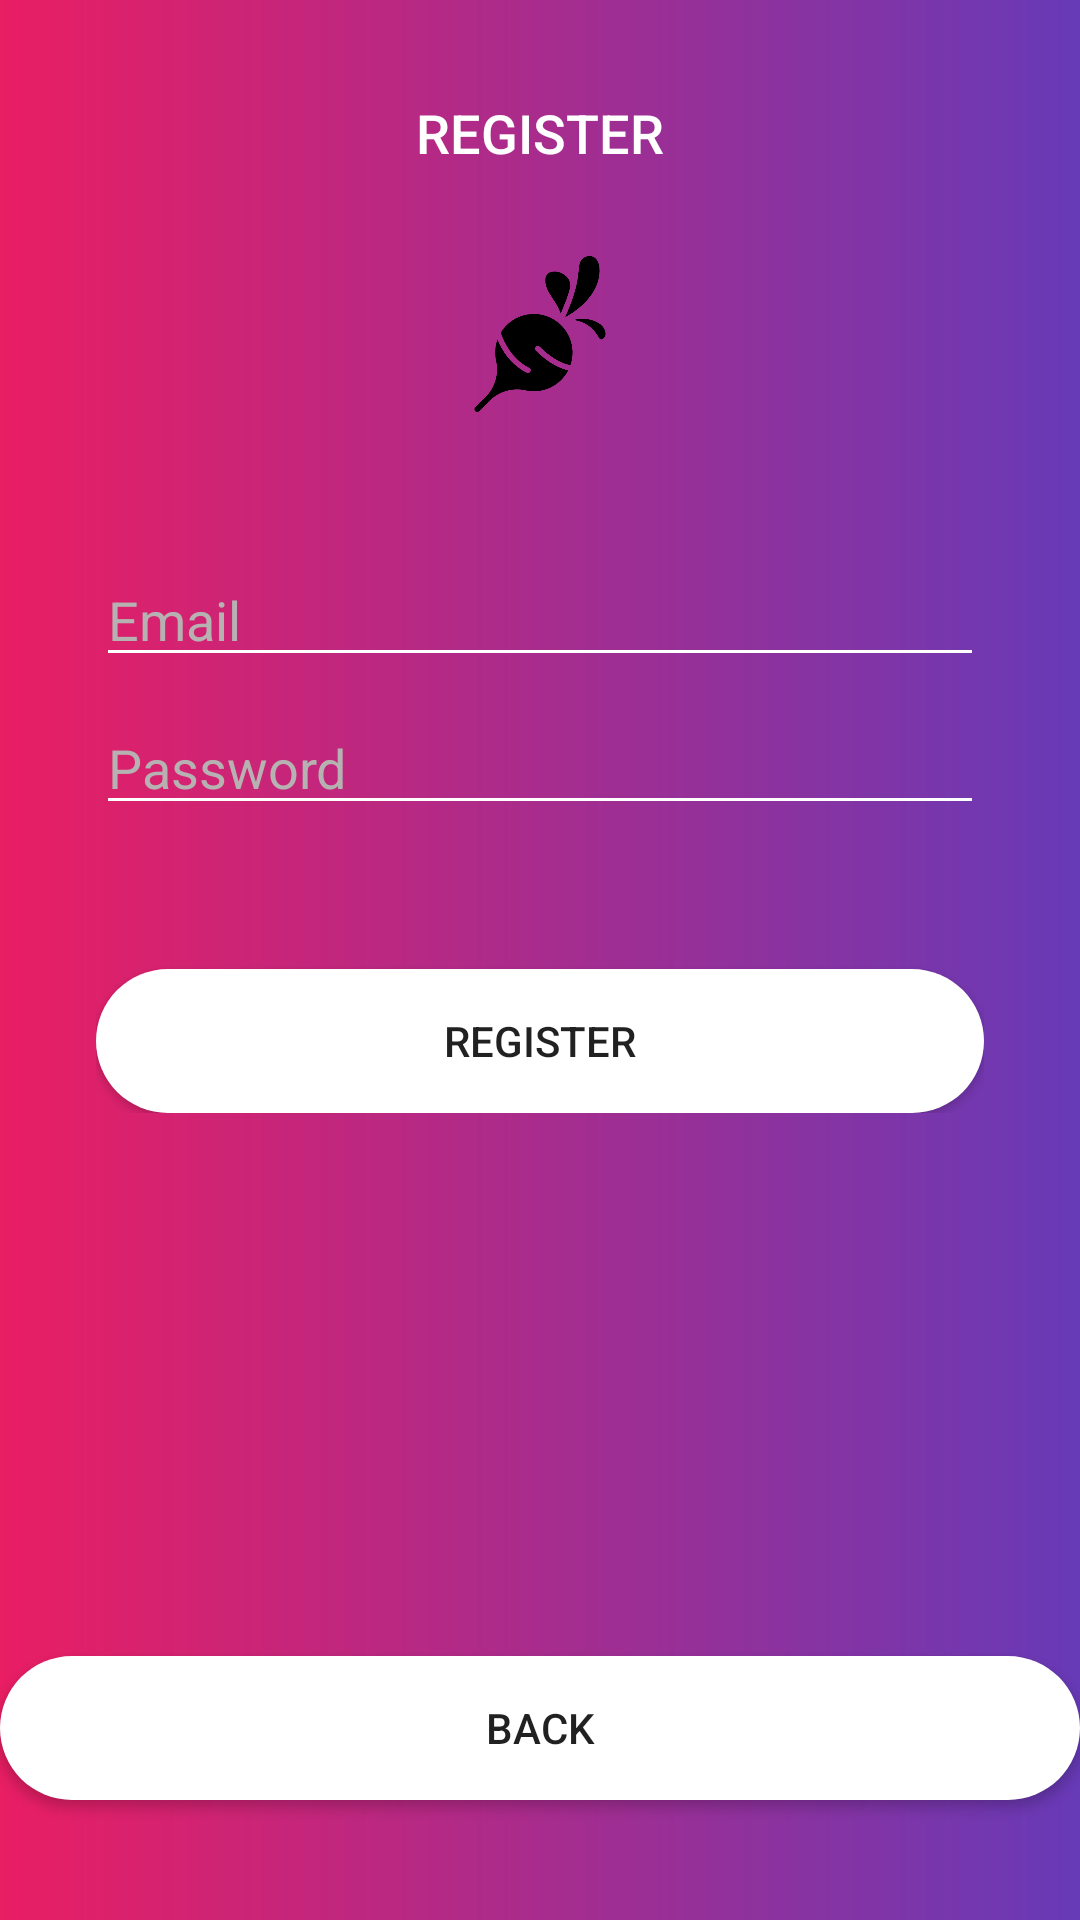

Locate icon controls on the screen. Image size 1080*1920, boxes as (x1, y1, x2, y2).
radish: (474, 256, 606, 412)
